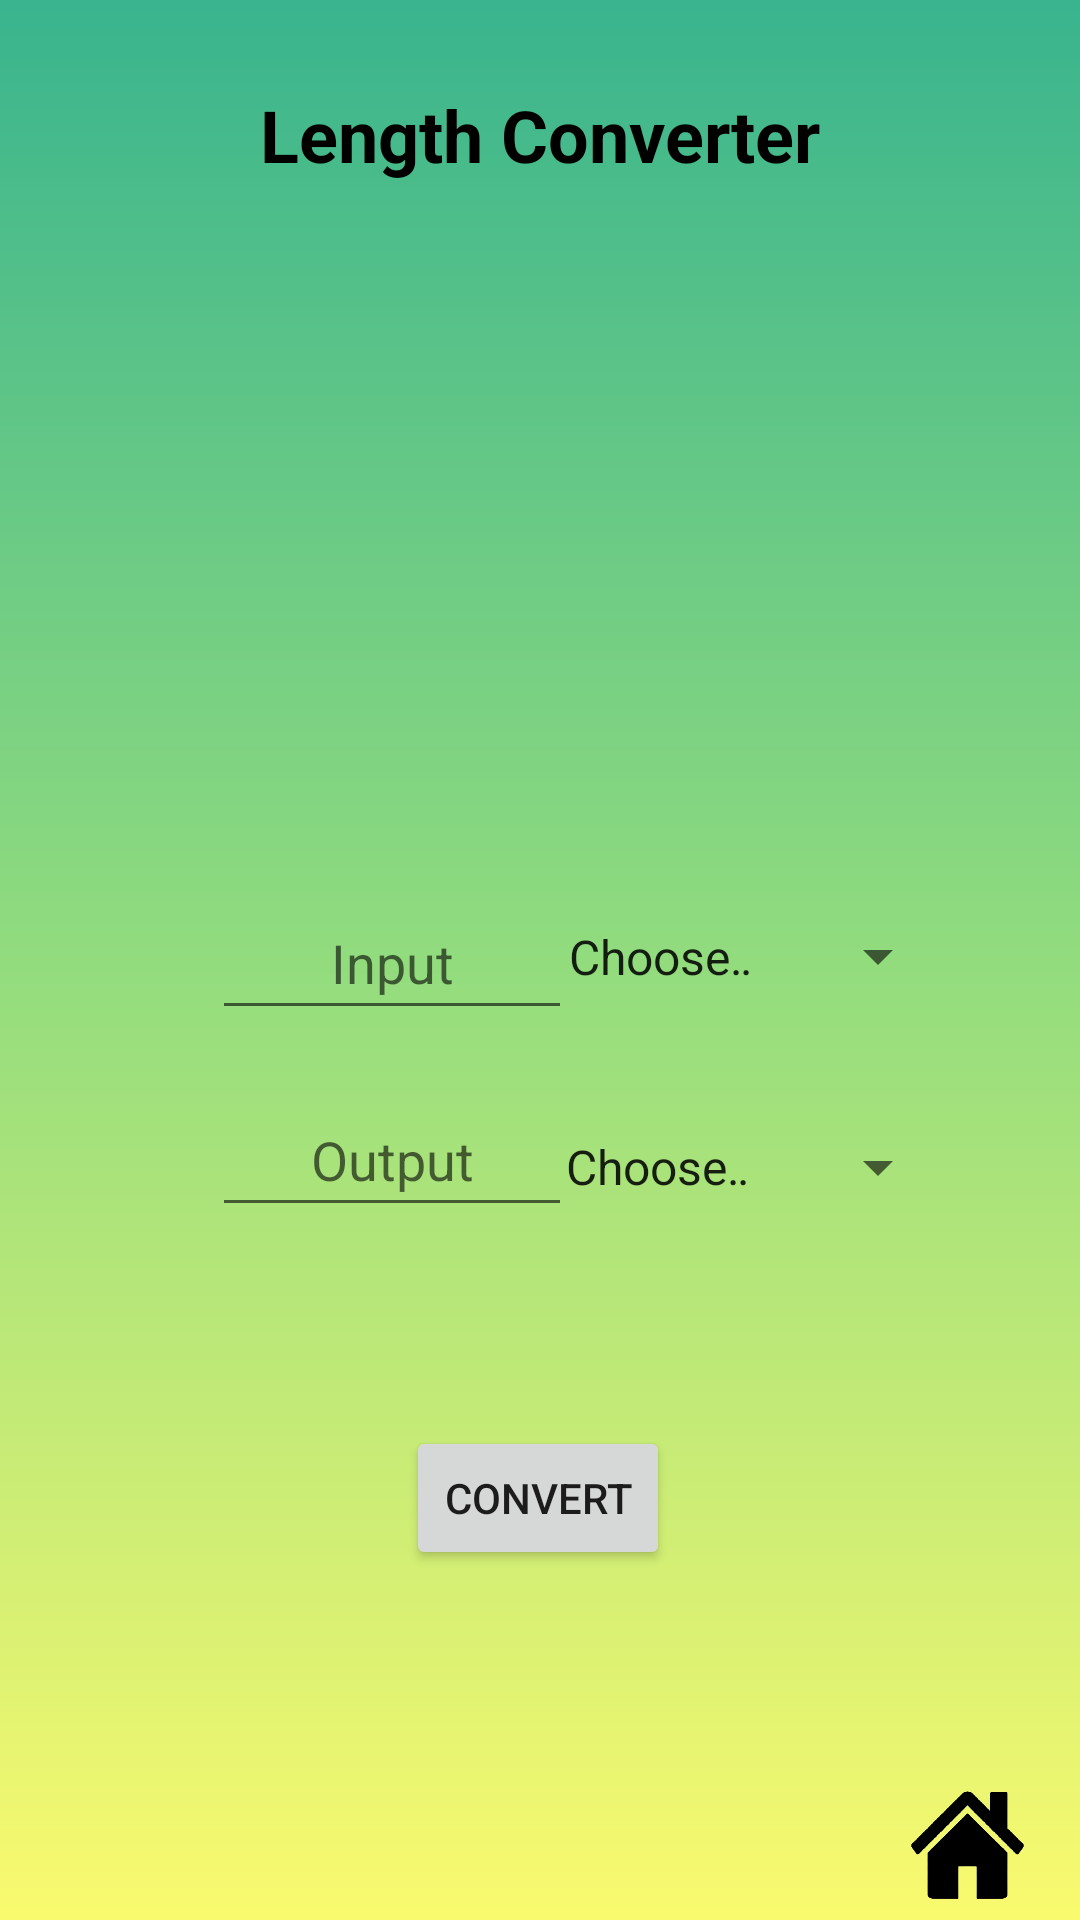

Where icons sit on this 1080px×1920px app screen, as Rect(x1, y1, x2, y2):
homeicon: Rect(911, 1791, 1024, 1899)
